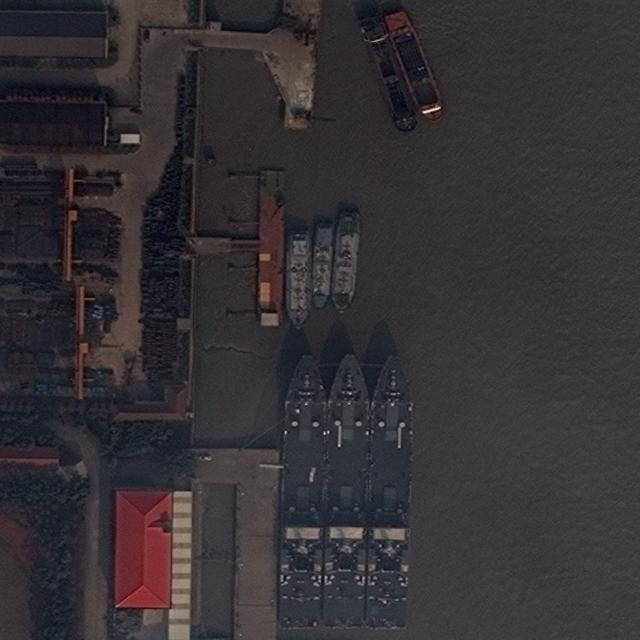Cargo: (357, 17, 423, 135), (381, 9, 447, 127)
Landing: (322, 354, 373, 625), (277, 354, 327, 628), (365, 355, 414, 625)
Other Warship: (330, 213, 361, 313), (286, 232, 312, 331), (310, 218, 337, 312)
